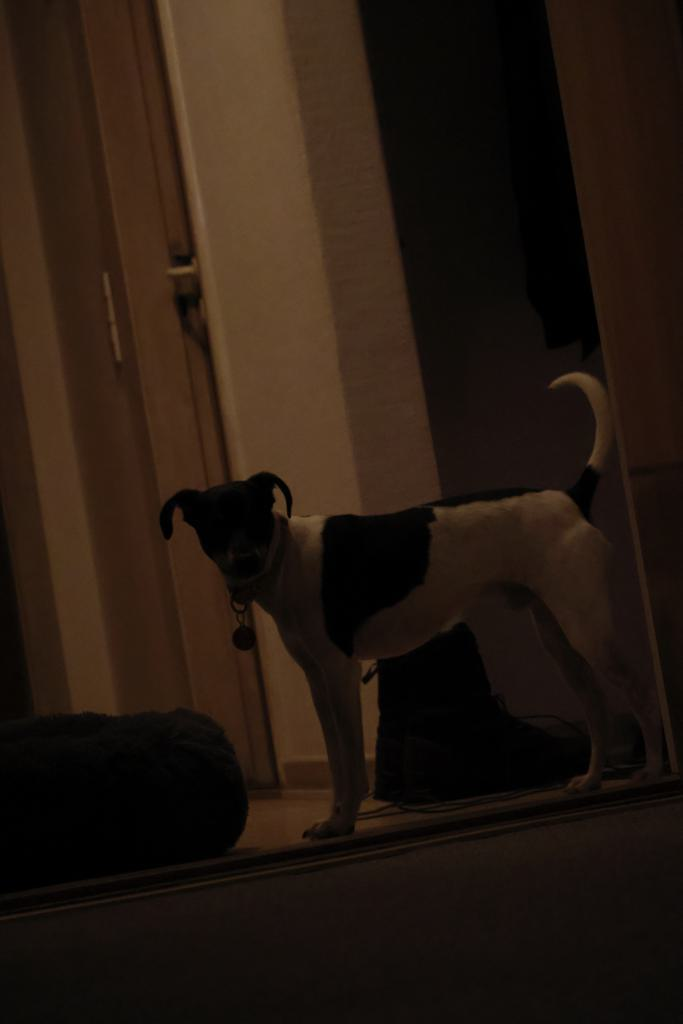Dog: (149, 364, 679, 844)
